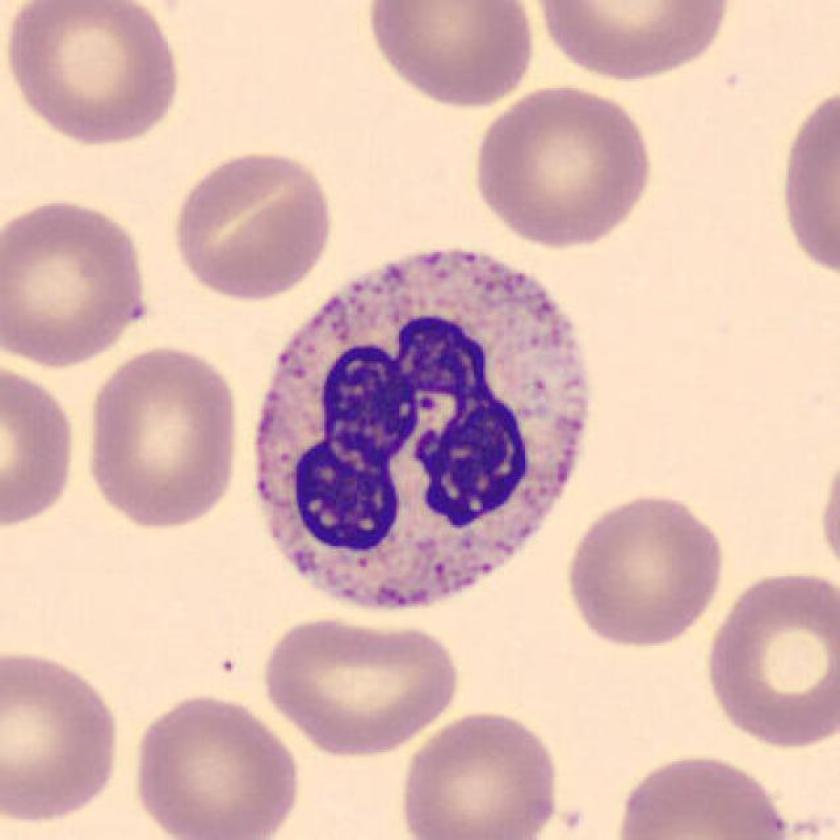neutrophil: (256, 250, 588, 609)
